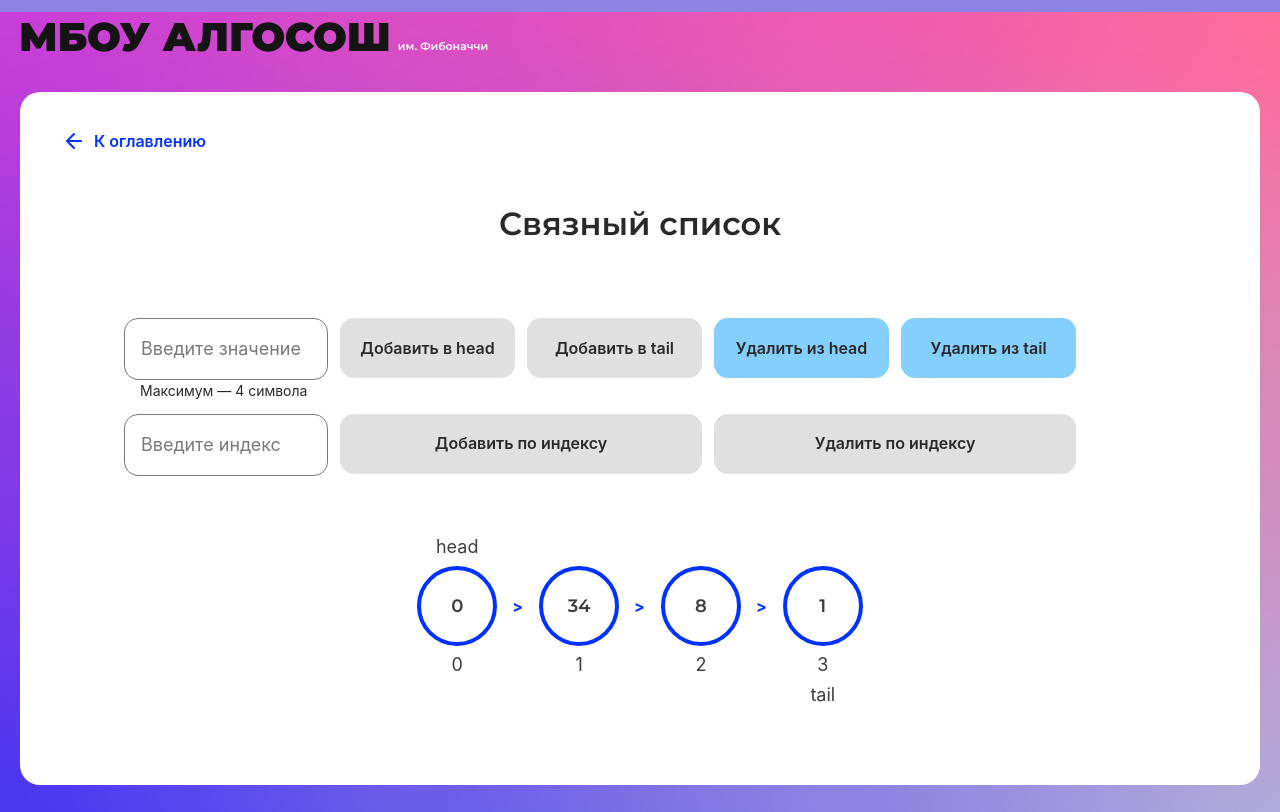
List Page › Корректное добавление элемента по индексу
This screenshot has width=1280, height=812.
In the field with test id "listSymbolInput": (226, 349) [124,318,328,380], type "75"
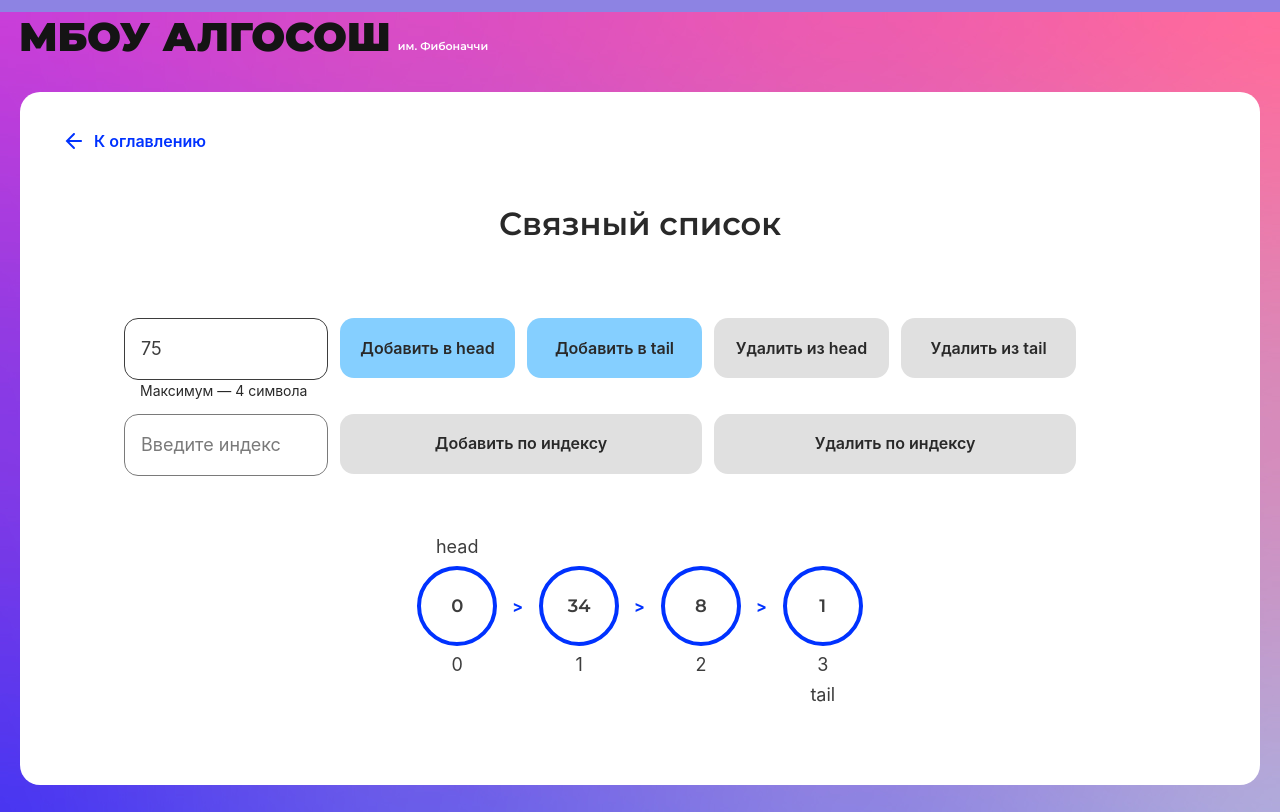
In the number field with test id "listIndexInput": (226, 445) [124,414,328,476], type "2"
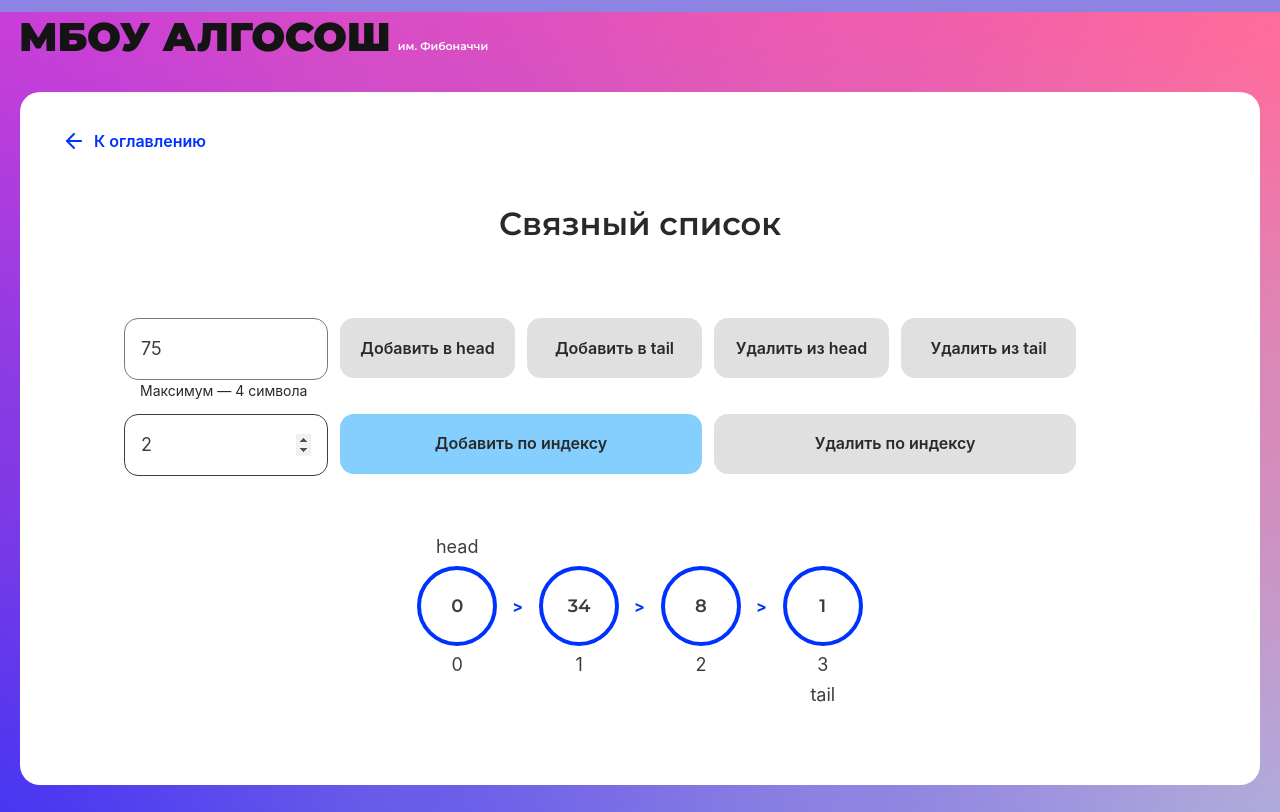
Click the button with test id "addByIndex": (521, 444) [340,414,702,474]
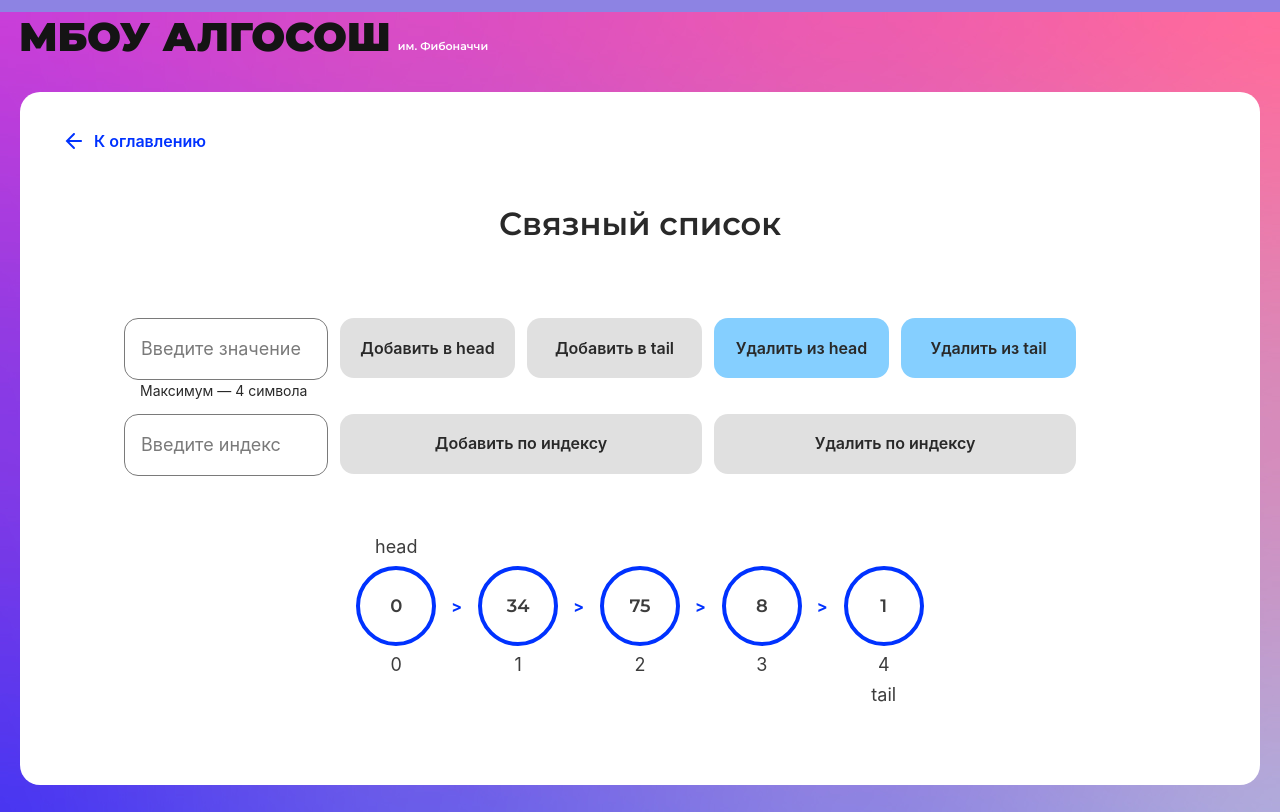
Expected: the element with test id "circle" reads "75", [600,566,680,646]
